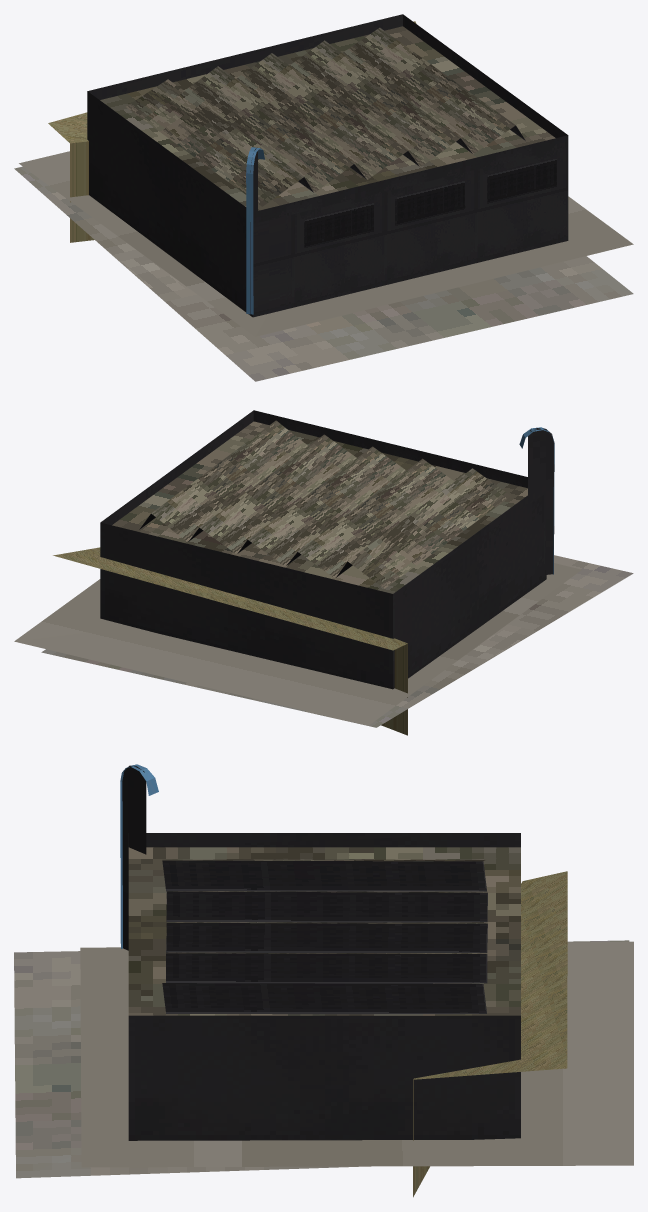
File: lodage01_lawn.obj
3 views of the same model, one above another, from view 1: azimuth 30°, elevation 25°; view 2: azimuth 150°, elevation 25°; view 3: azimuth 270°, elevation 25° (orthographic). The views are drawn at different scales.
Visible parts, largest first — view 1: LODage01_LAwN; view 2: LODage01_LAwN; view 3: LODage01_LAwN.
Boxes of the visible parts, left/top/right/bottom form: LODage01_LAwN: left=14, top=14, right=633, bottom=381; LODage01_LAwN: left=14, top=410, right=633, bottom=735; LODage01_LAwN: left=14, top=764, right=633, bottom=1197.
Bounding box in the file's own units: 44.3 × 22.01 × 49.3.
Materials: 5 (5 with a texture image).
